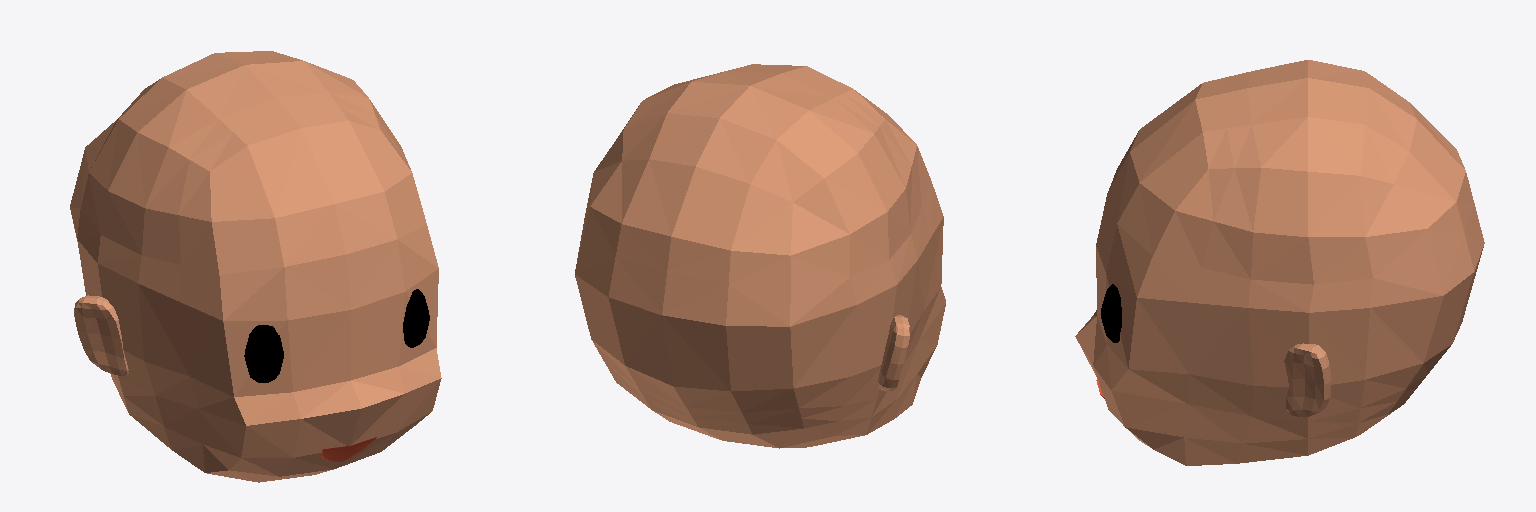
Rendered from Umatchii_V2_Combined.obj.
The picture shows the model from 3 angles: view 1: azimuth 30°, elevation 25°; view 2: azimuth 150°, elevation 25°; view 3: azimuth 270°, elevation 25°; orthographic projection.
Visible parts, largest first — view 1: pCube3; view 2: pCube3; view 3: pCube3.
Part boxes in pixels (left/top/right/bottom): pCube3: left=70, top=51, right=441, bottom=482; pCube3: left=575, top=64, right=945, bottom=448; pCube3: left=1075, top=60, right=1484, bottom=465.
Bounding box in the file's own units: 6.77 × 7.2 × 7.43.